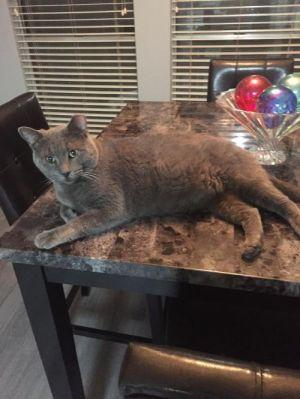rblue: (17, 109, 105, 196)
